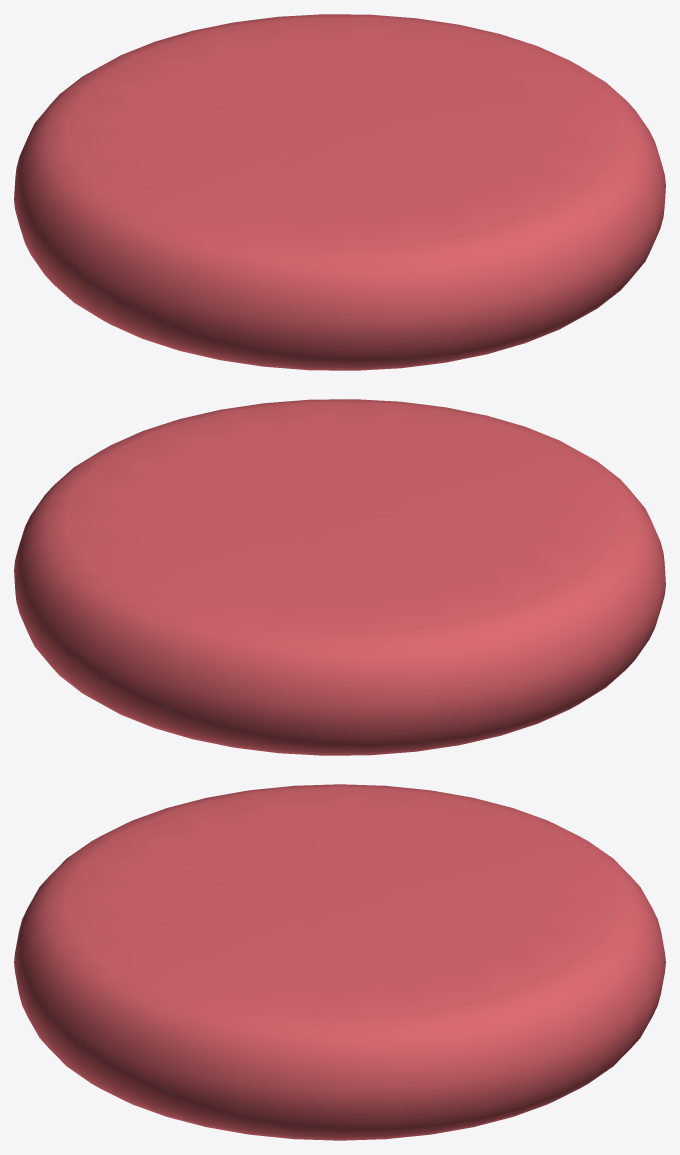
File: food_patty_raw.glb
3 renders of one model, top to bottom at view 1: azimuth 30°, elevation 25°; view 2: azimuth 150°, elevation 25°; view 3: azimuth 270°, elevation 25°, orthographic.
Parts seen in each view (by area): view 1: patty_raw; view 2: patty_raw; view 3: patty_raw.
Boxes of the visible parts, left/top/right/bottom form: patty_raw: left=14, top=14, right=665, bottom=370; patty_raw: left=14, top=399, right=665, bottom=755; patty_raw: left=14, top=784, right=665, bottom=1140.
Bounding box in the file's own units: 0.3734 × 0.0797 × 0.3734.
